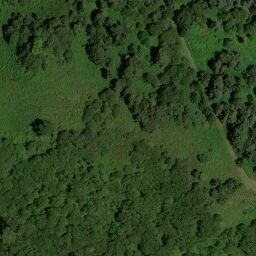forest: (3, 148, 196, 256), (160, 66, 241, 126), (83, 8, 112, 69), (44, 19, 74, 63)
